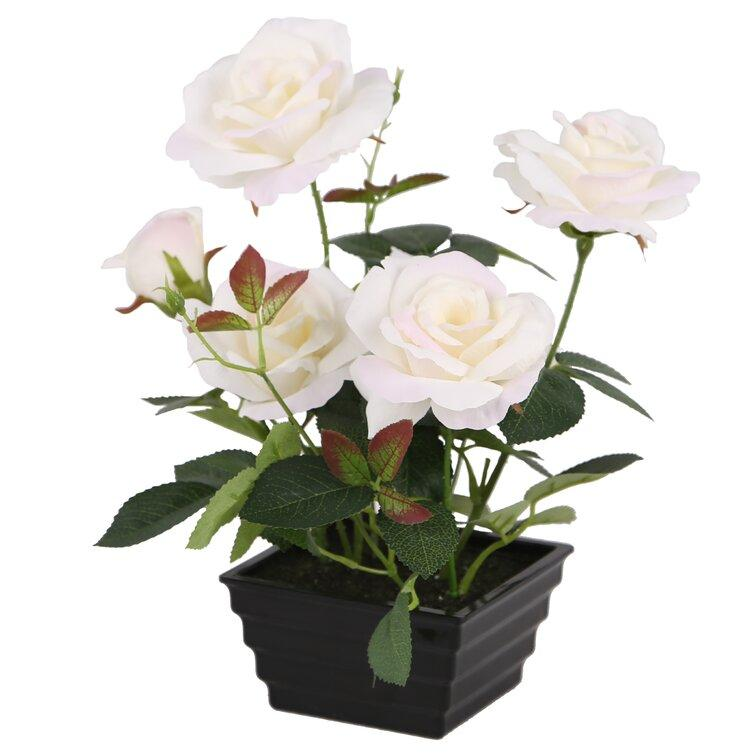Rose: (157, 22, 406, 190), (339, 246, 554, 437), (474, 75, 709, 248), (183, 242, 362, 430), (72, 201, 228, 315)
